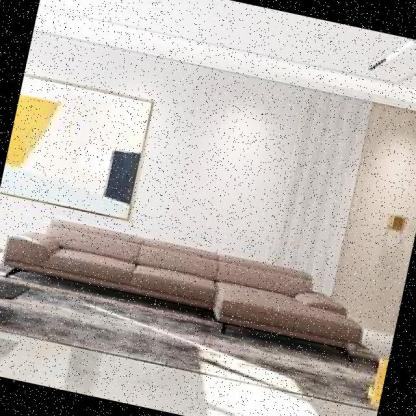Sofa: (0, 192, 395, 373)
